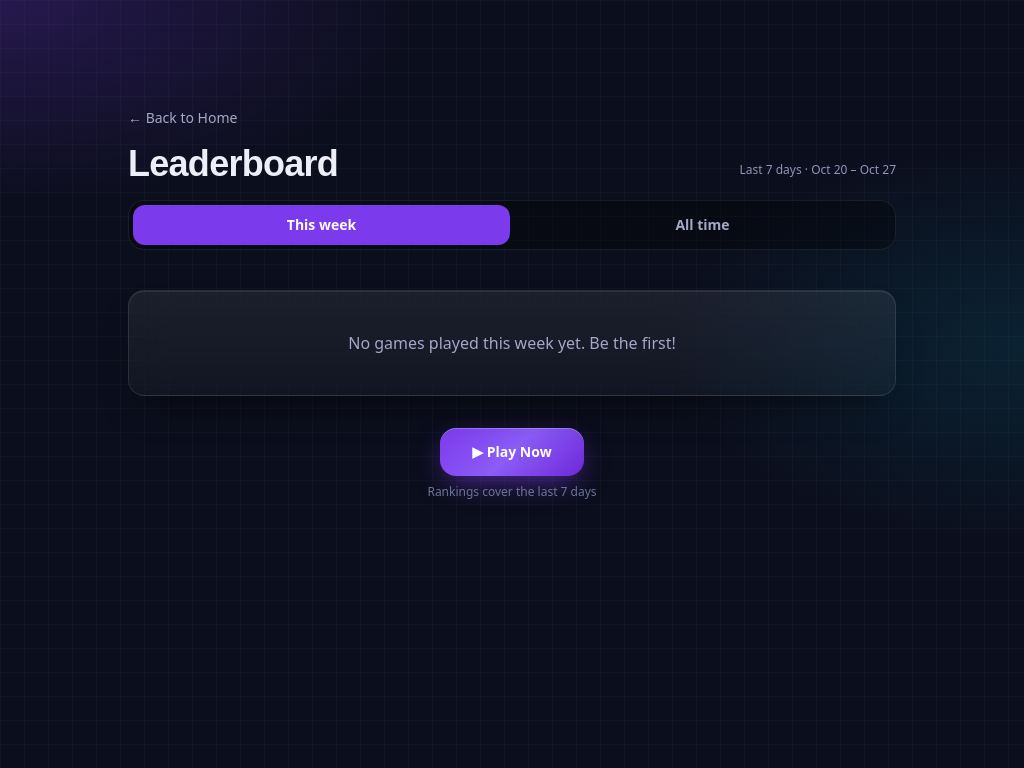
Test: LeaderboardPage period tabs and your-rank bar › All time shows its own empty state
Click the tab "All time" at (702, 225), box [514, 205, 891, 245]
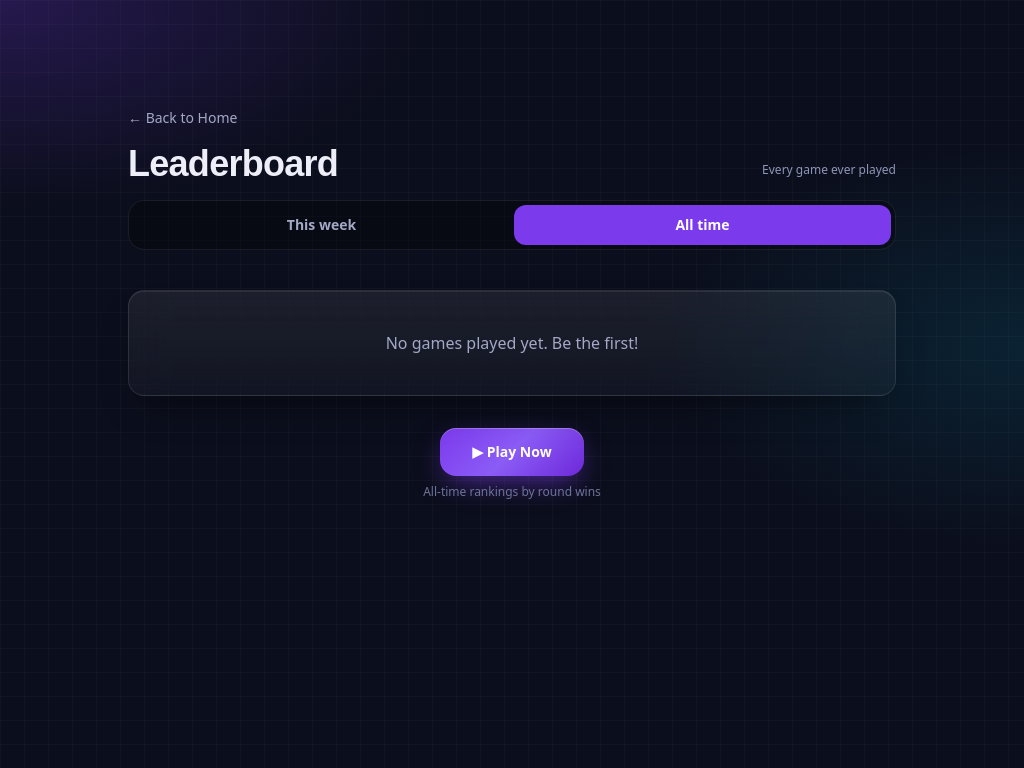
Expected: the text "No games played yet. Be the first!" is shown, [128, 290, 896, 396]
